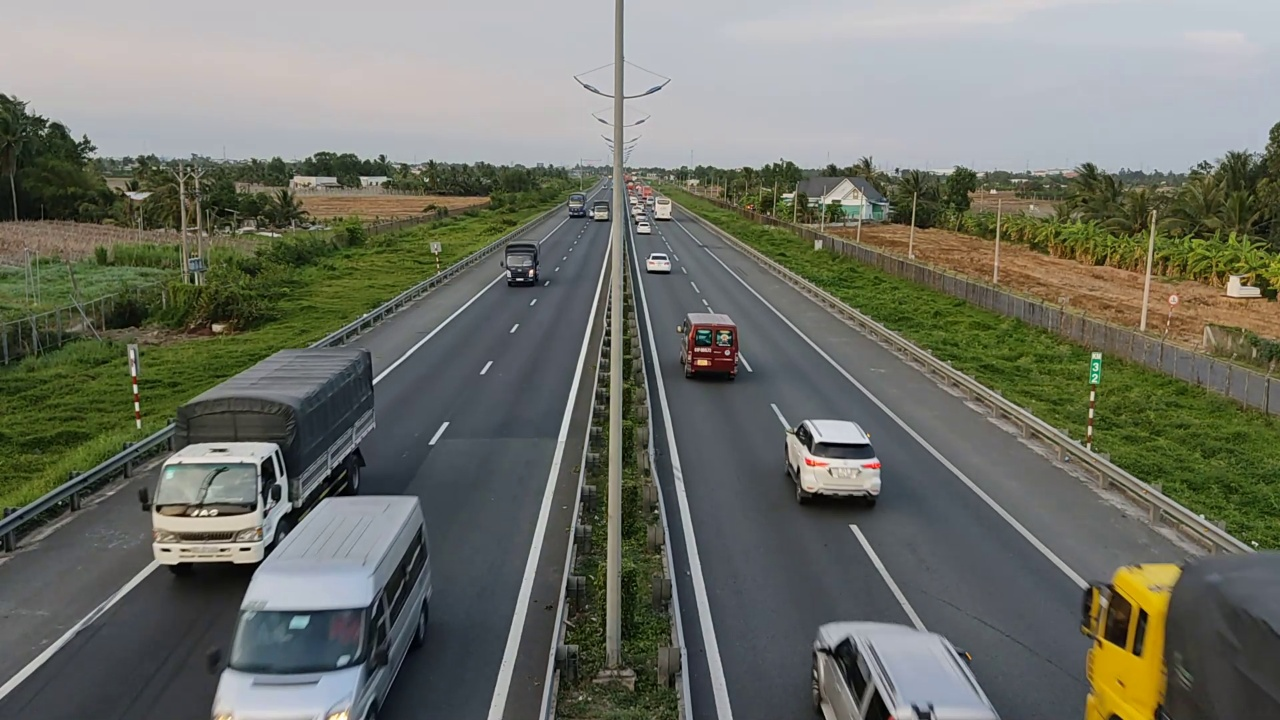car: (205, 491, 434, 719), (810, 619, 1001, 719), (784, 419, 882, 505), (673, 306, 742, 382), (646, 252, 672, 274)
truck: (142, 345, 377, 572), (497, 238, 543, 287)
